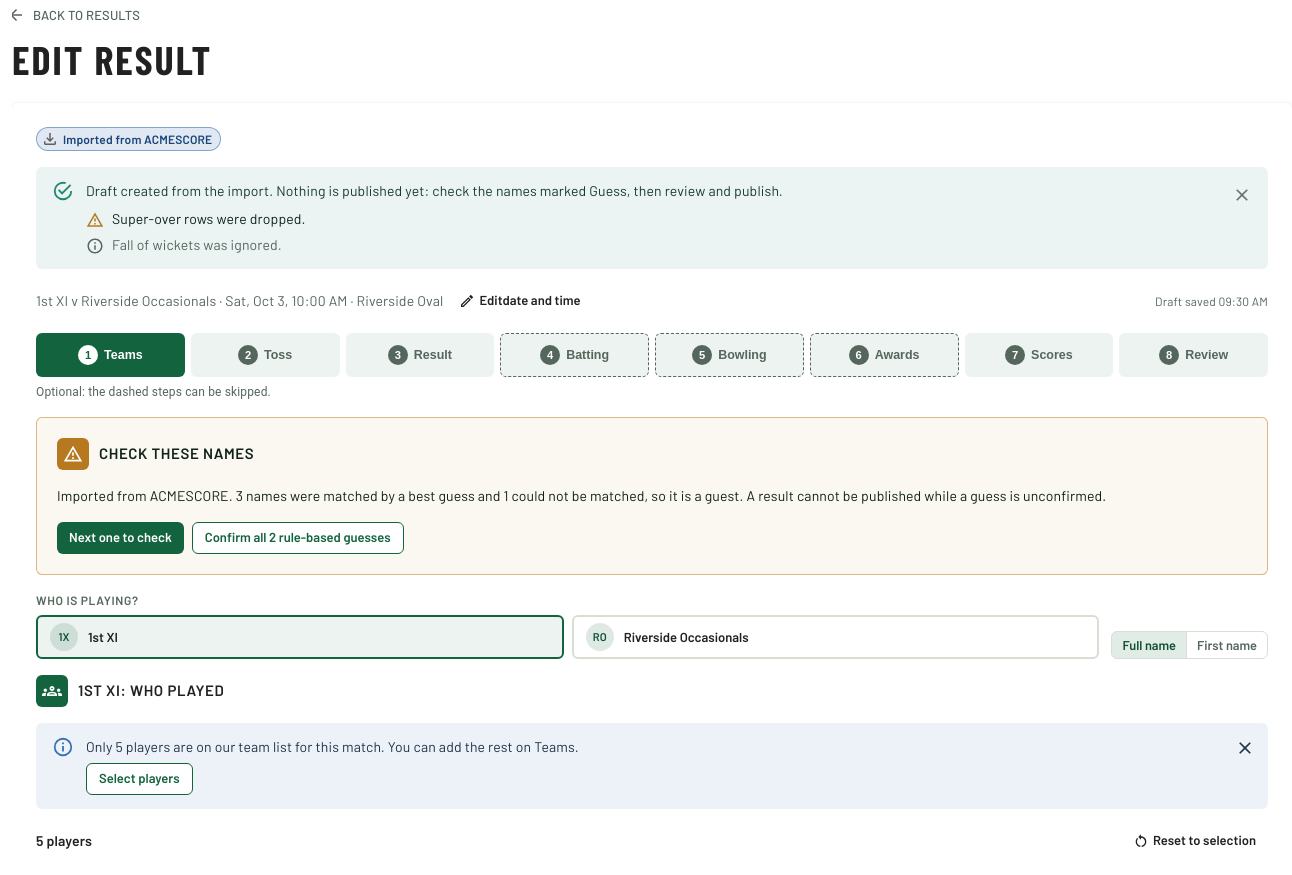
Test case: an imported draft in the capture wizard › the notice after the import › says the draft was created, lists the notes that are not about a name with warnings first, and is dismissed with a 44 px button
Expected: the list items read "Super-over rows were dropped.", "Fall of wickets was ignored.", in this order, [86, 210, 306, 229]; [86, 236, 282, 255]
Click the button named "Dismiss".
click(1242, 195)  # box [1220, 173, 1264, 217]
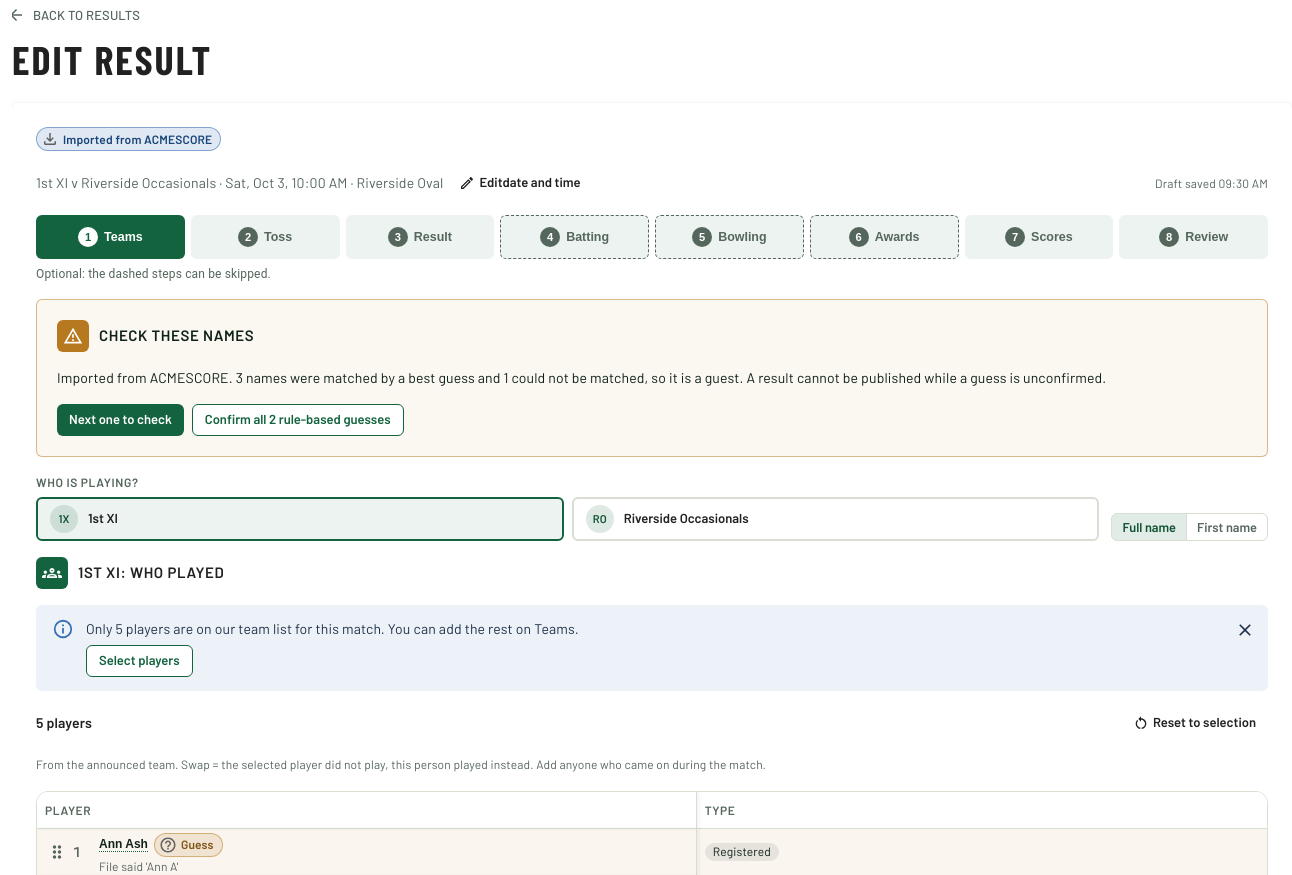
Expected: the text "Draft created from the import" is gone
